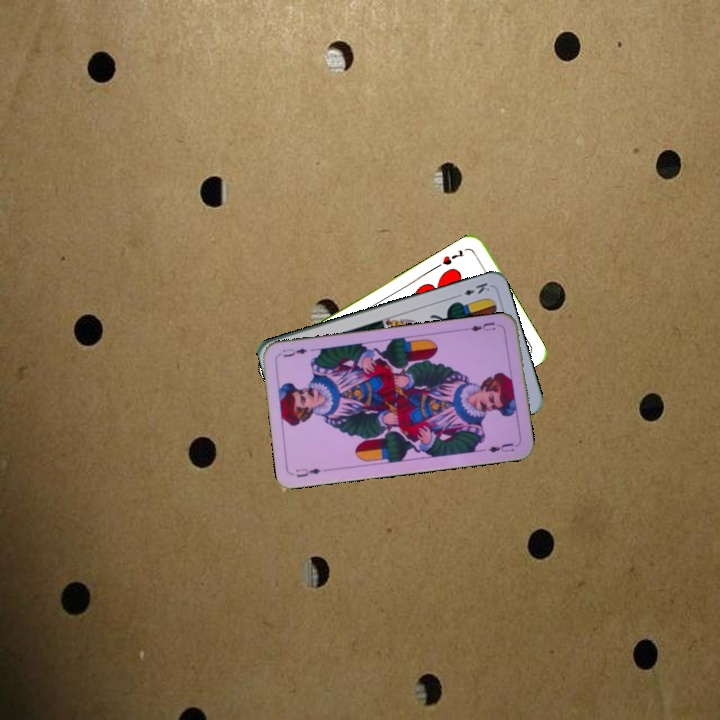EK: (452, 278, 493, 300)
EU: (463, 318, 503, 334), (291, 464, 323, 480)
H7: (438, 245, 467, 268)
